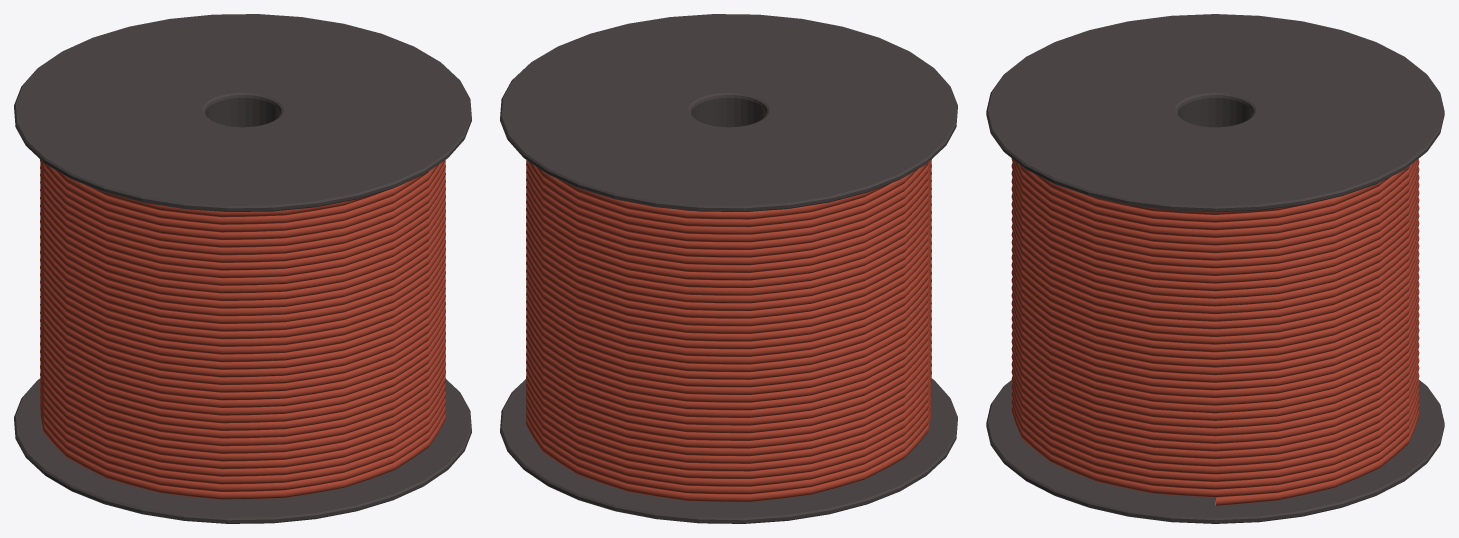
File: kupferspule.fbx
3 views of the same model, side by side, from view 1: azimuth 30°, elevation 25°; view 2: azimuth 150°, elevation 25°; view 3: azimuth 270°, elevation 25° (orthographic).
Parts seen in each view (by area): view 1: Cylinder; view 2: Cylinder; view 3: Cylinder.
Boxes of the visible parts, x1,y1,x2,y2 form: Cylinder: [14, 14, 471, 523]; Cylinder: [500, 14, 957, 523]; Cylinder: [986, 14, 1444, 523].
Size of the model in its own units: 51.09 by 39.05 by 51.09.
